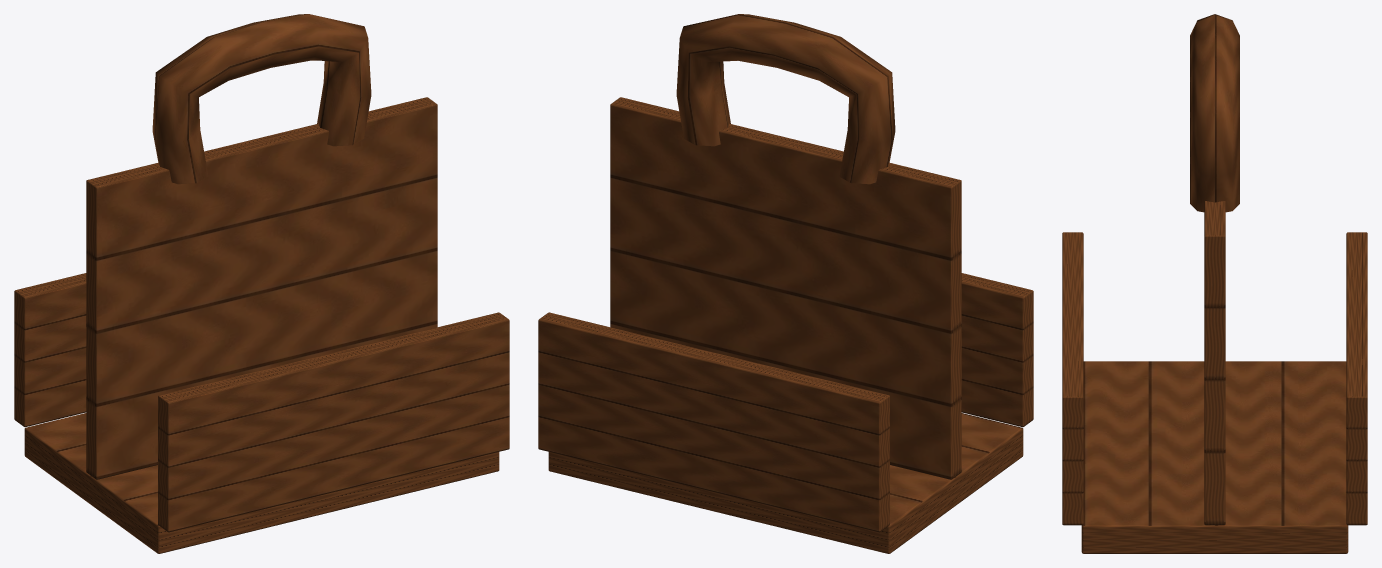
The model's file is scavengers-loot-library-bottle-carrier-8d6f0a9a__2668.glb.
3 views of the same model, side by side, from view 1: azimuth 30°, elevation 25°; view 2: azimuth 150°, elevation 25°; view 3: azimuth 270°, elevation 25° (orthographic).
Parts seen in each view (by area): view 1: bottle-carrier; view 2: bottle-carrier; view 3: bottle-carrier.
Boxes of the visible parts, x1,y1,x2,y2 form: bottle-carrier: (14, 14, 509, 553); bottle-carrier: (538, 14, 1033, 553); bottle-carrier: (1062, 14, 1367, 553).
Bounding box in the file's own units: 0.22 × 0.2715 × 0.172.
Materials: 1 (1 with a texture image).
